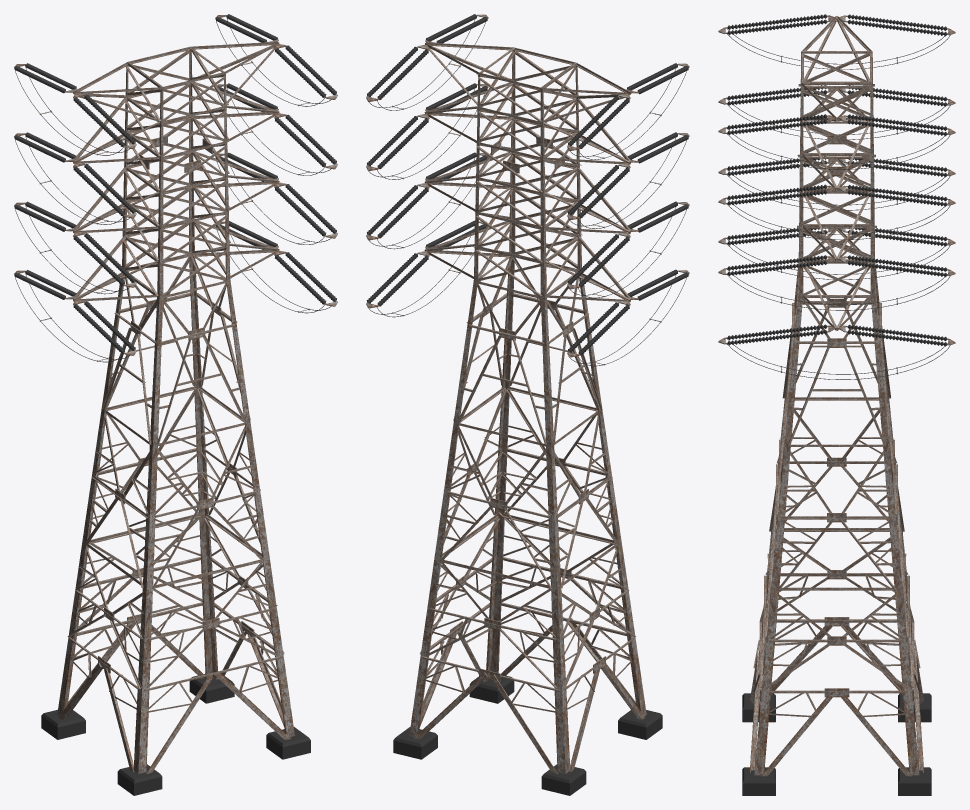
Rendered from SM_Transmission_Tower.FBX.
3 renders of one model, left to right at view 1: azimuth 30°, elevation 25°; view 2: azimuth 150°, elevation 25°; view 3: azimuth 270°, elevation 25°, orthographic.
Visible parts, largest first — view 1: SM_Transmission_Tower_LOD0; view 2: SM_Transmission_Tower_LOD0; view 3: SM_Transmission_Tower_LOD0.
Part boxes in pixels (x1,y1,x2,y2): SM_Transmission_Tower_LOD0: (14,14,337,795); SM_Transmission_Tower_LOD0: (366,14,689,795); SM_Transmission_Tower_LOD0: (718,14,955,795).
Size of what is drawn, in the model's own units: 1097 by 1025 by 3267.
